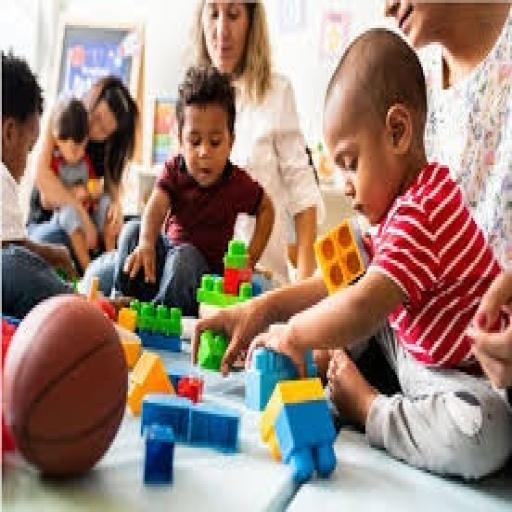baby: (197, 28, 511, 478), (114, 68, 274, 316), (0, 54, 76, 316), (51, 98, 109, 268)
